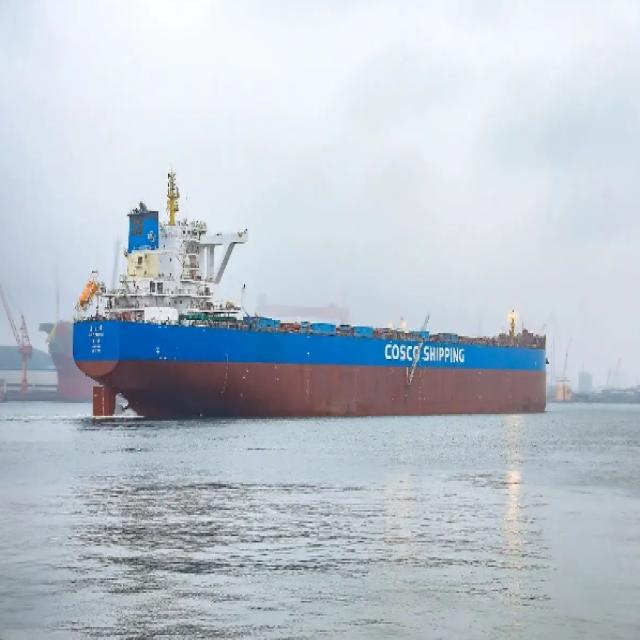cargoship: (77, 173, 550, 416)
